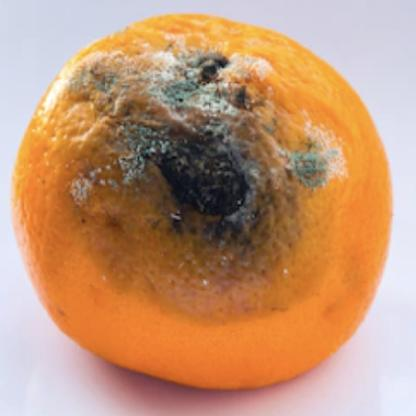rotten: (21, 12, 390, 396)
